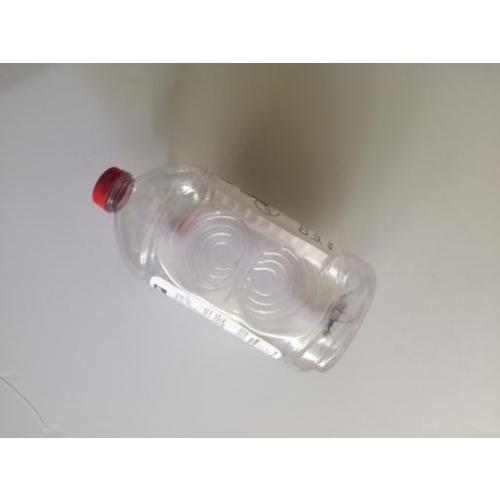plastic: (93, 165, 371, 369)
